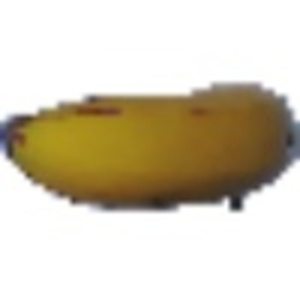banana: (3, 75, 296, 223)
